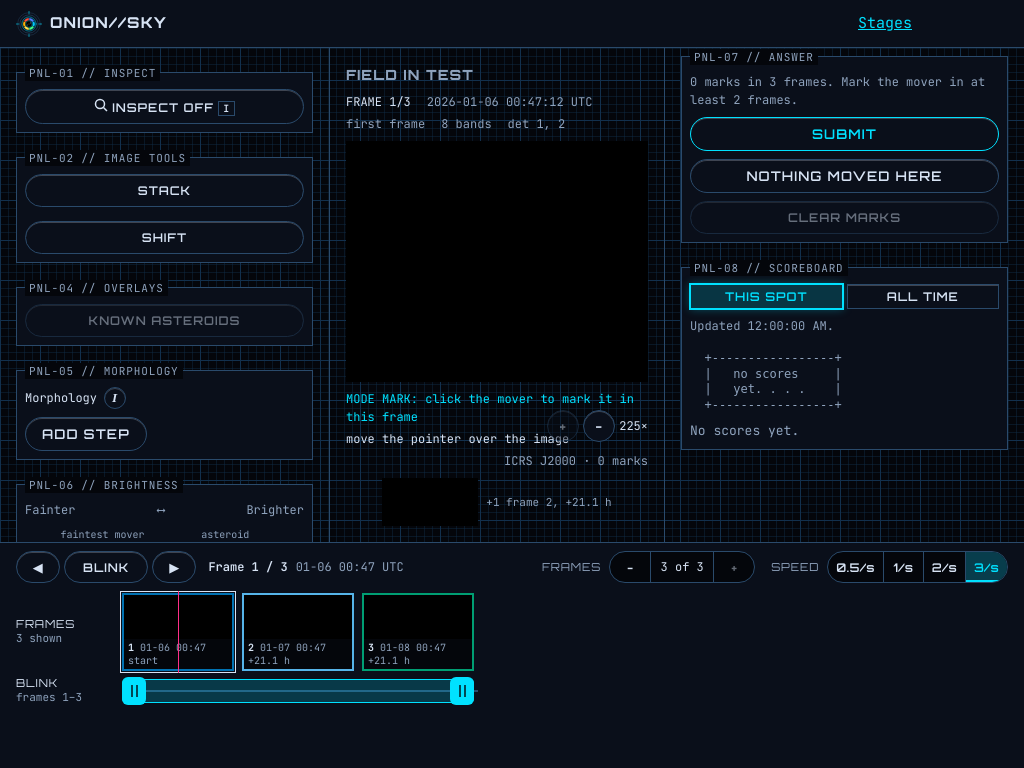
it: PlayScreen wiring › wires the Stack range into the Timeline (only while Stack is on), with no Real time spacing
The image size is (1024, 768).
Step 1. Click the button "Stack" → [164, 190], box [25, 174, 304, 207]
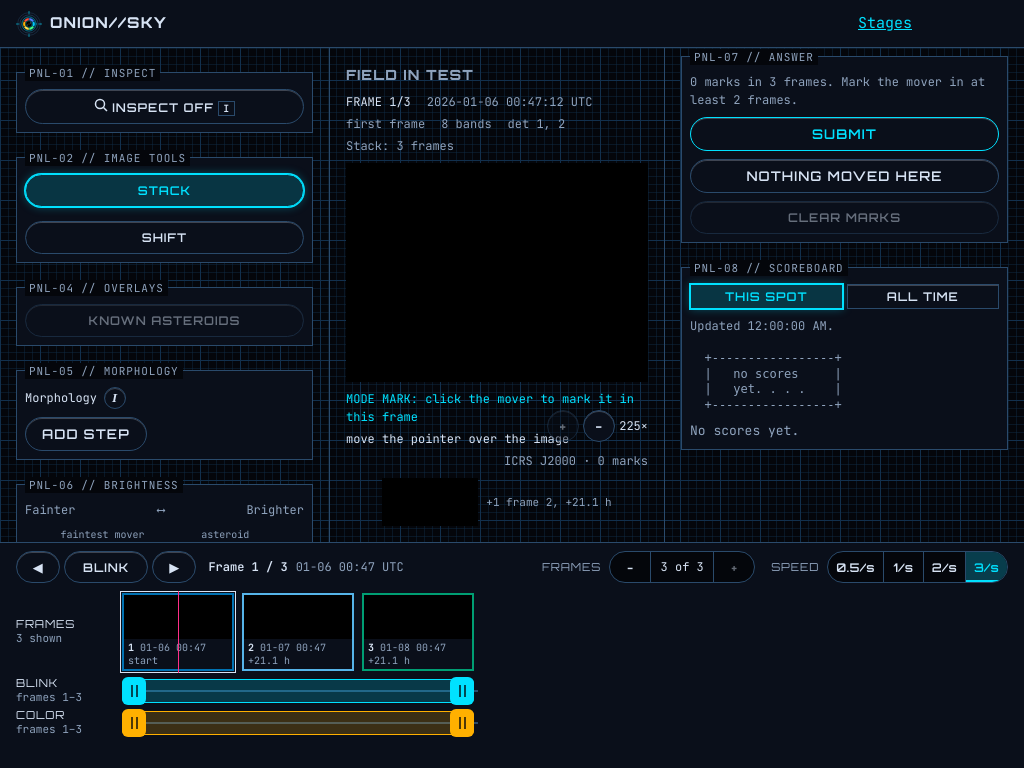
Check: the element named "Color frames 1–3" is shown, box [122, 709, 478, 737]
Check: the text "Stack: 3 frames" is shown, box [346, 137, 454, 155]
Step 2. Press ArrowLeft in the slider named "Stack end frame", box [450, 709, 474, 737]
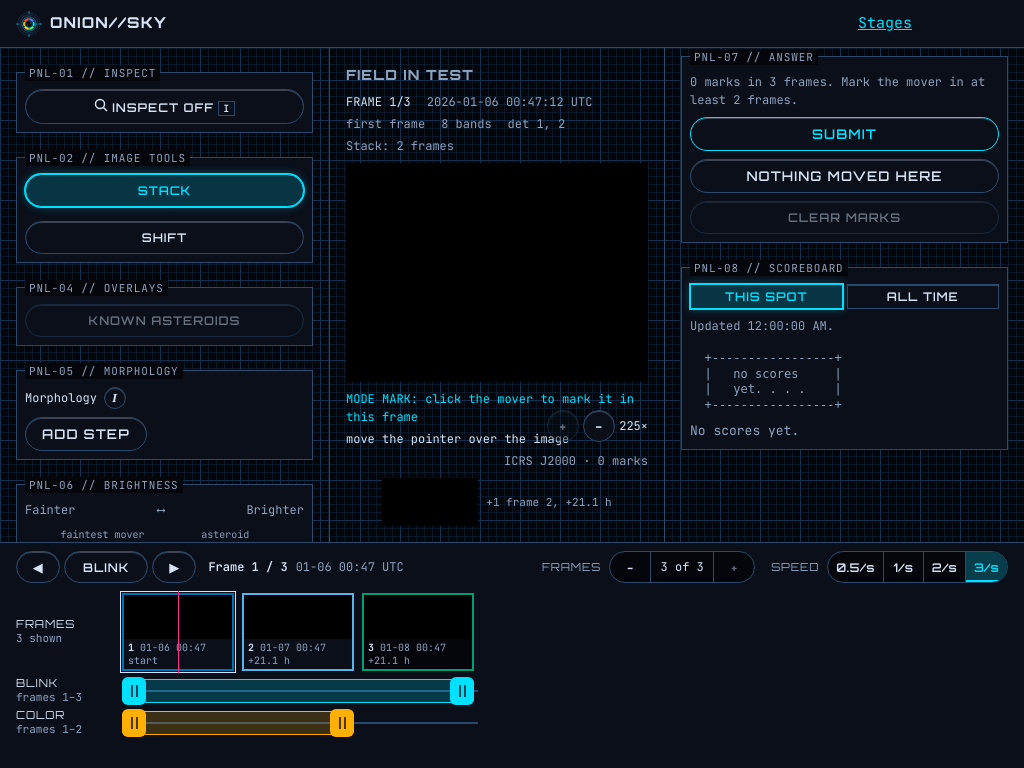
Check: the button with aria-label "Play blink" is shown, box [64, 551, 148, 583]
Check: the text "Stack: 2 frames" is shown, box [346, 137, 454, 155]
Check: the element named "Color frames 1–2" is shown, box [122, 709, 478, 737]
